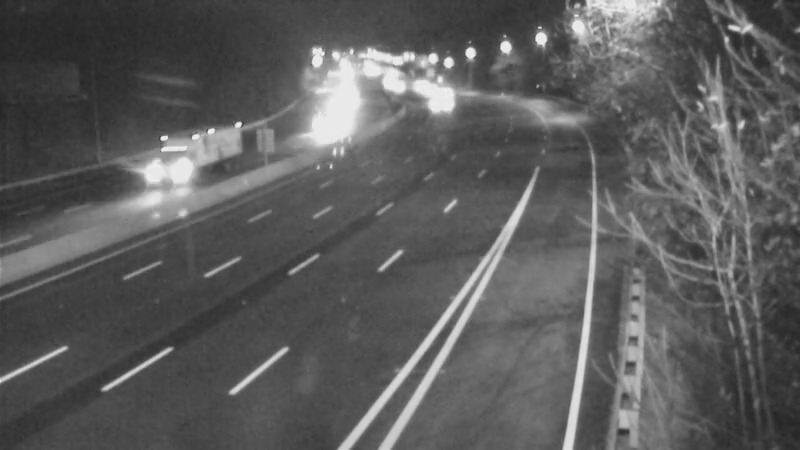vehicle: (150, 123, 230, 203), (373, 61, 423, 111), (394, 64, 444, 114), (404, 67, 454, 117), (416, 79, 466, 129), (297, 100, 347, 150)
